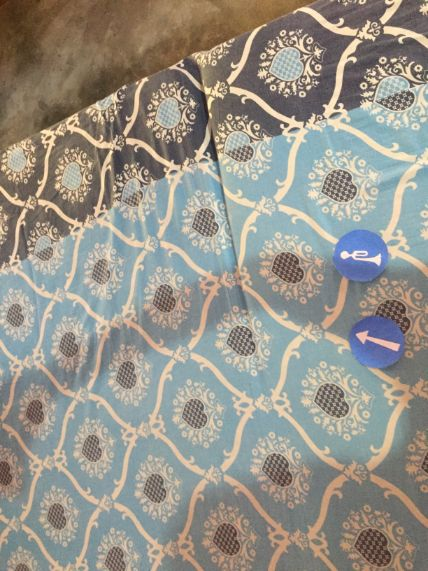blow-horn: (333, 225, 385, 281)
keep-left: (350, 315, 402, 372)
